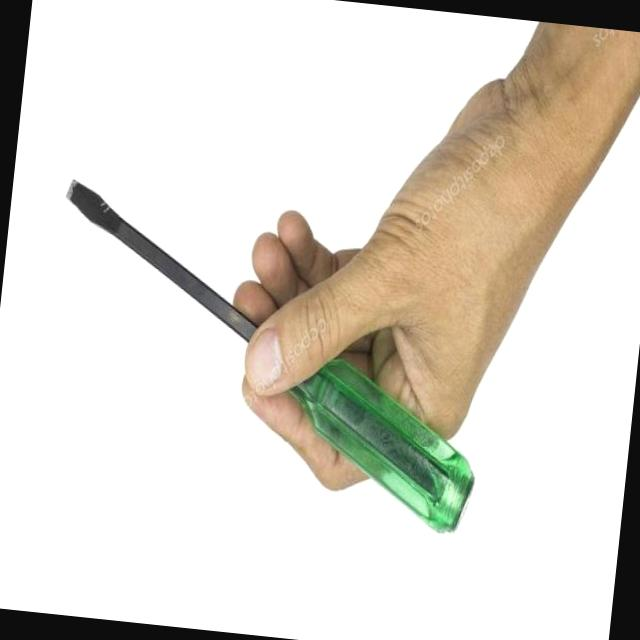screwdriver: (290, 359, 472, 532), (67, 182, 255, 340)
